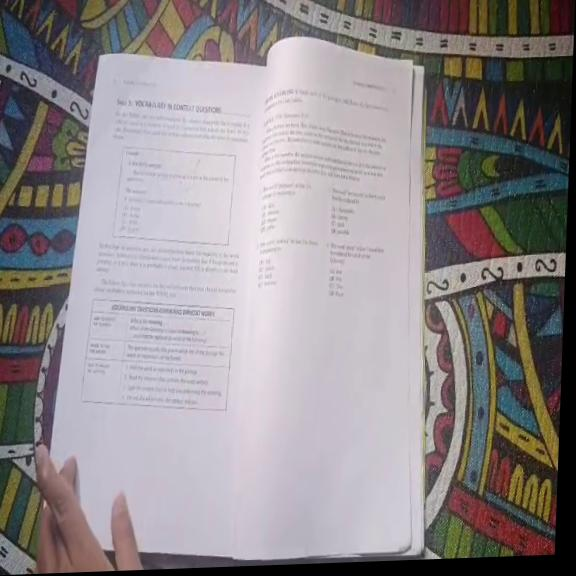Kertas: (50, 47, 270, 560), (237, 31, 433, 564)
